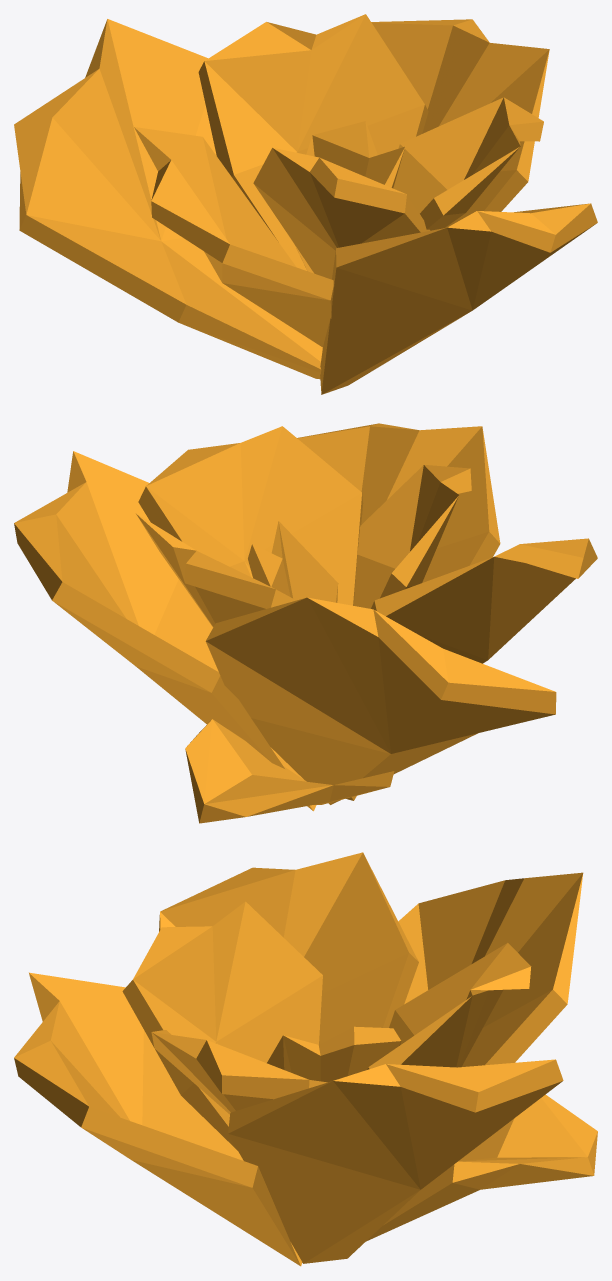
The model's file is SM_Salad_Mature_A.fbx.
The picture shows the model from 3 angles, top to bottom: view 1: azimuth 30°, elevation 25°; view 2: azimuth 150°, elevation 25°; view 3: azimuth 270°, elevation 25°; orthographic projection. The views are drawn at different scales.
Visible parts, largest first — view 1: salad-mature-a; view 2: salad-mature-a; view 3: salad-mature-a.
Part boxes in pixels (x1=…): salad-mature-a: x1=14, y1=14, x2=597, y2=394; salad-mature-a: x1=14, y1=423, x2=597, y2=823; salad-mature-a: x1=14, y1=852, x2=597, y2=1266.
Size of the model in its own units: 0.4742 by 0.2813 by 0.4445.
